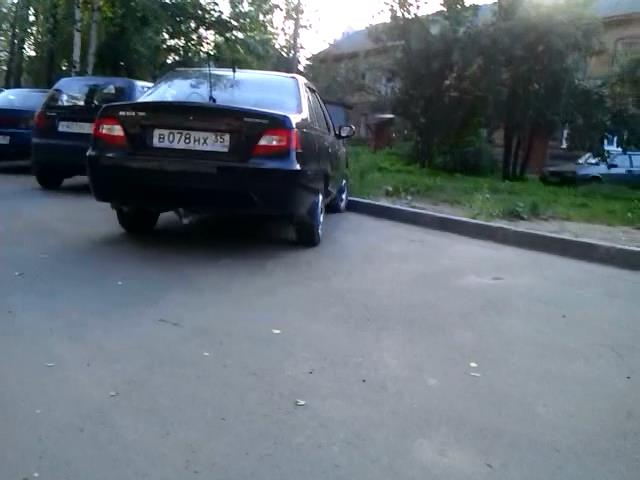car license plate: (152, 126, 231, 157), (57, 119, 95, 135), (1, 134, 12, 146)
